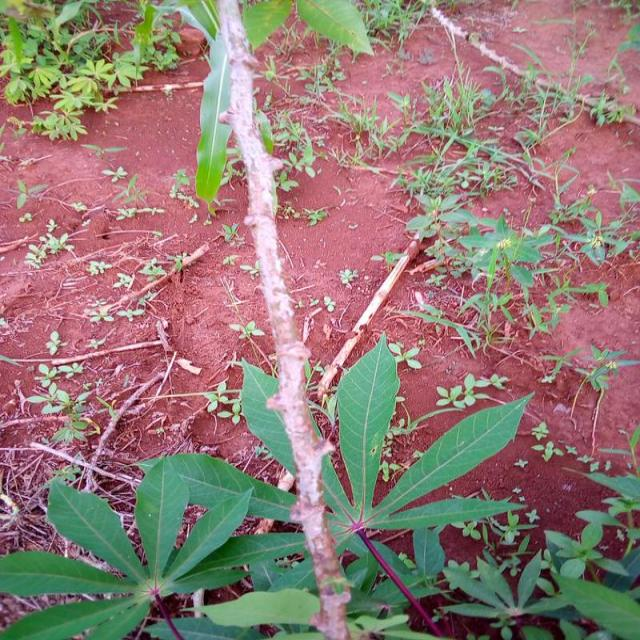cassava leaf: (368, 389, 534, 526), (334, 330, 400, 520)
